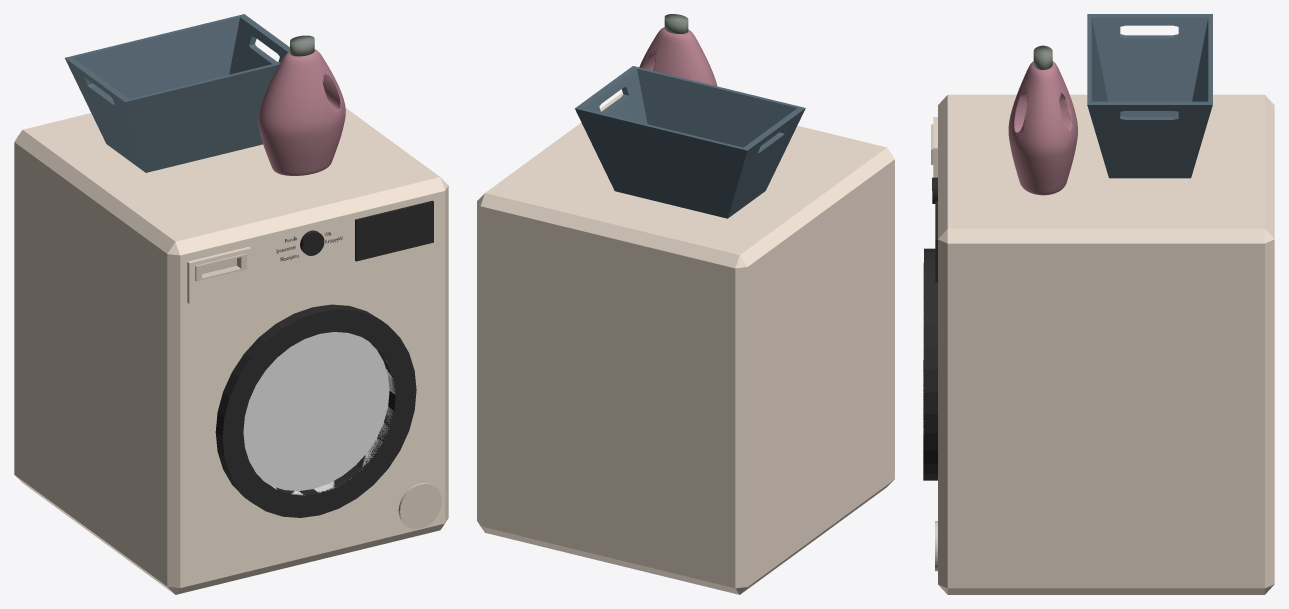
The model's file is washer.fbx.
The picture shows the model from 3 angles, left to right: view 1: azimuth 30°, elevation 25°; view 2: azimuth 150°, elevation 25°; view 3: azimuth 270°, elevation 25°; orthographic projection. The views are drawn at different scales.
Visible parts, largest first — view 1: pesukone, rumpu, pyykkikori, pesuaine, näyttö, pesuainelokero, poistovesi, kahva; view 2: pesukone, pyykkikori, pesuaine; view 3: pesukone, pyykkikori, pesuaine, rumpu.
Part boxes in pixels (bbox=[...]): pesukone: bbox=[14, 108, 448, 594]; rumpu: bbox=[215, 304, 416, 517]; pyykkikori: bbox=[65, 14, 289, 172]; pesuaine: bbox=[258, 49, 345, 175]; näyttö: bbox=[355, 200, 433, 261]; pesuainelokero: bbox=[187, 246, 251, 303]; poistovesi: bbox=[398, 483, 441, 528]; kahva: bbox=[195, 253, 246, 281]; pesukone: bbox=[477, 92, 894, 594]; pyykkikori: bbox=[575, 66, 805, 218]; pesuaine: bbox=[639, 27, 717, 86]; pesukone: bbox=[938, 94, 1274, 594]; pyykkikori: bbox=[1087, 14, 1212, 178]; pesuaine: bbox=[1008, 61, 1077, 195]; rumpu: bbox=[923, 248, 937, 480].
Size of the model in its own units: 60 by 97.66 by 62.6.
